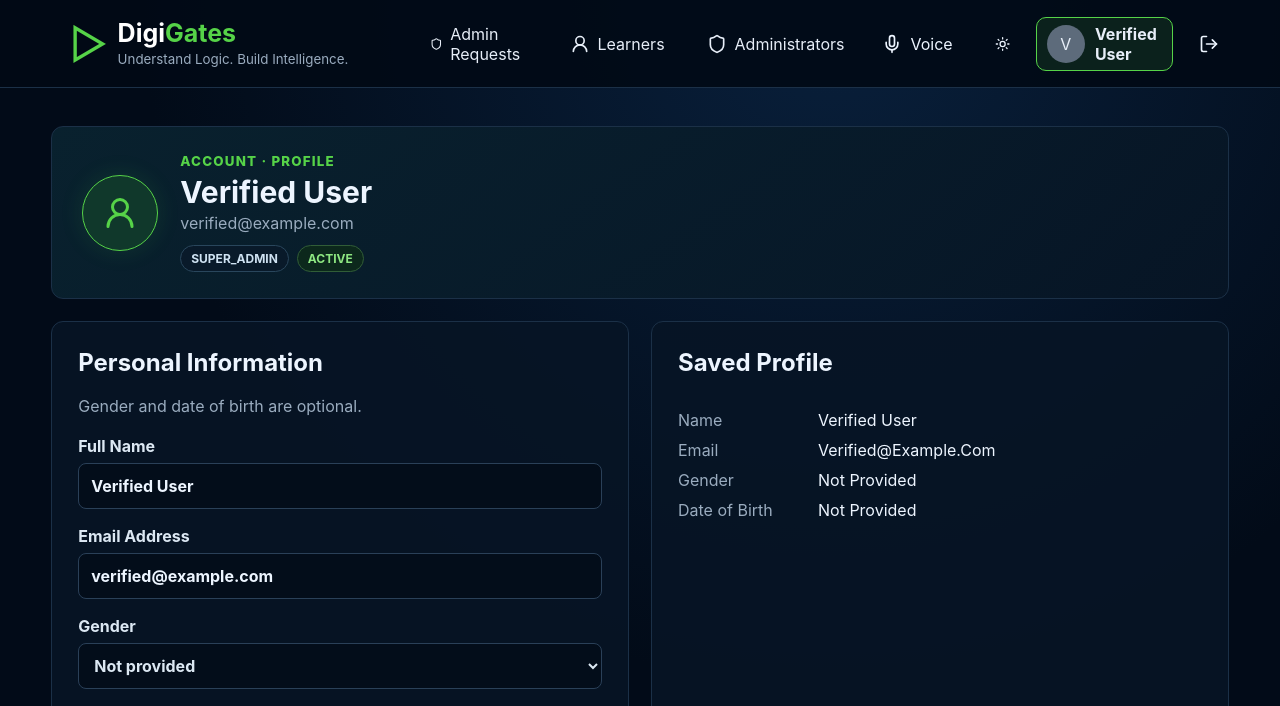
Test: verified application session navigation › removes privileged navigation when the verified user logs out
Click the button titled "Sign out" at {"x": 1208, "y": 44}, box [1182,22,1234,66]
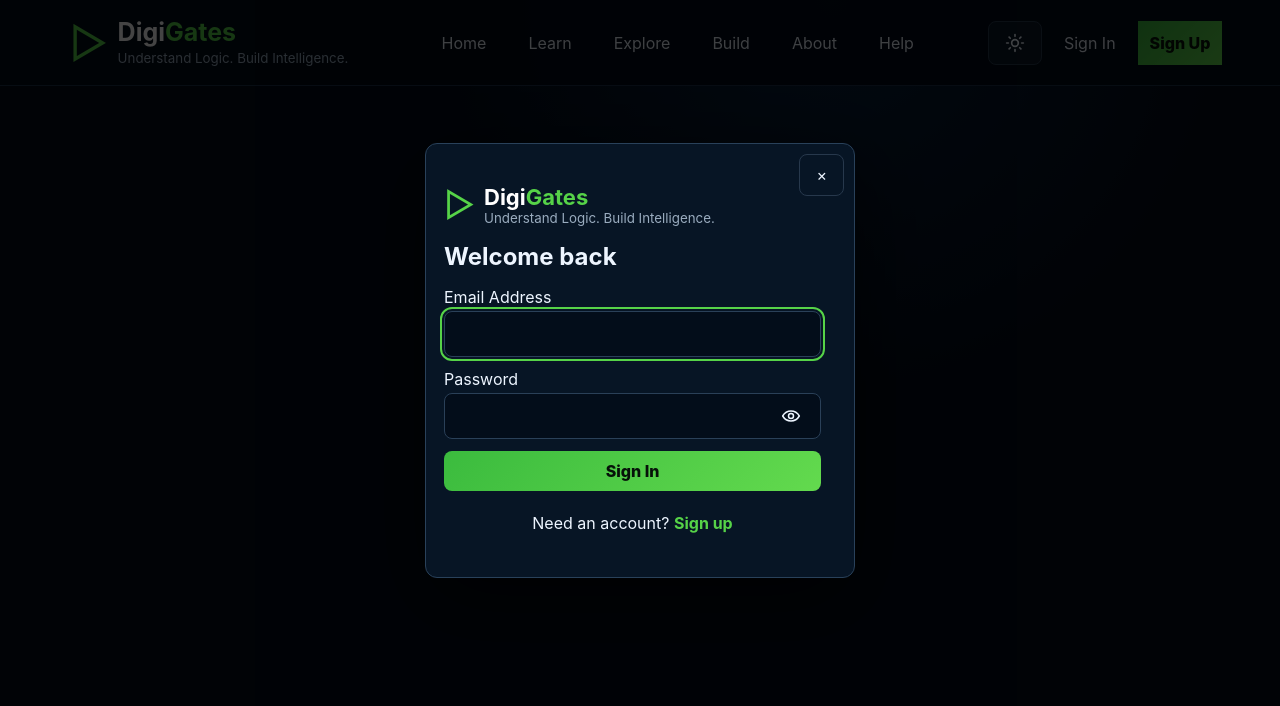
Now the element with class "workspaceMenu" is gone
